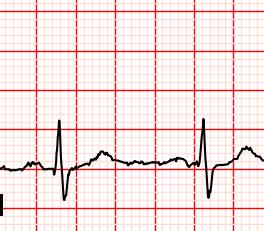ST Depression: (35, 160, 84, 201), (178, 158, 223, 200)
